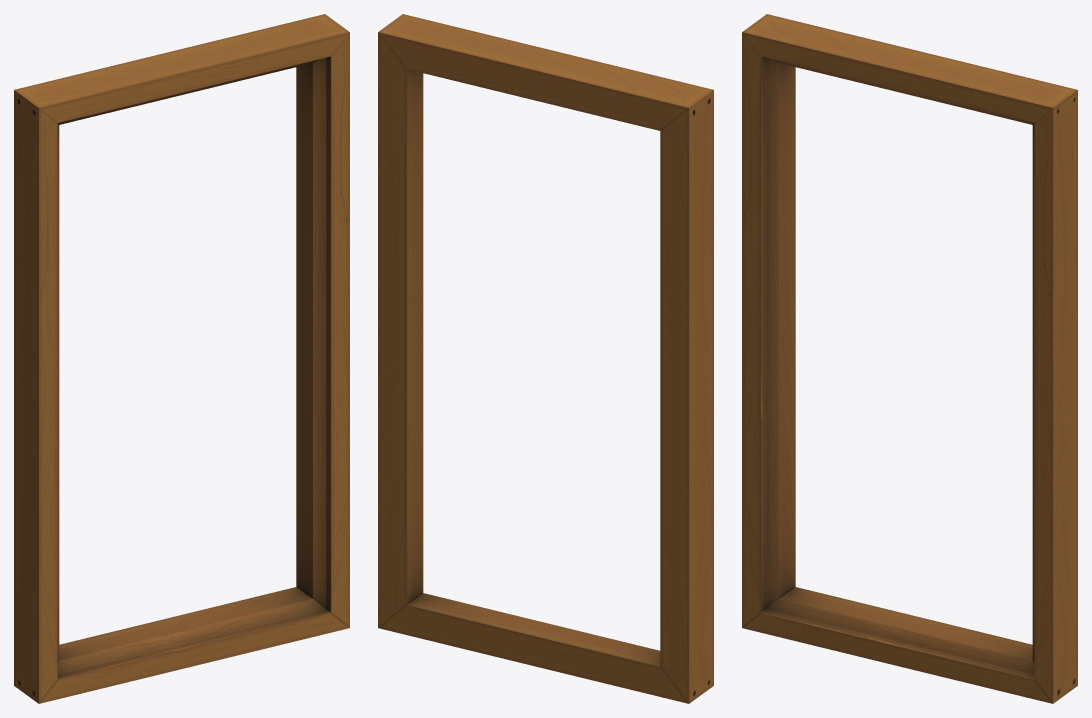
Rendered from portal_wood_frame.obj.
3 views of the same model, side by side, from view 1: azimuth 30°, elevation 25°; view 2: azimuth 150°, elevation 25°; view 3: azimuth 330°, elevation 25° (orthographic).
Visible parts, largest first — view 1: pPlane2; view 2: pPlane2; view 3: pPlane2.
Boxes of the visible parts, x1=… form: pPlane2: x1=14, y1=14, x2=349, y2=703; pPlane2: x1=378, y1=14, x2=713, y2=703; pPlane2: x1=742, y1=14, x2=1077, y2=703.
Bounding box in the file's own units: 3.84 × 7.03 × 0.5315.
